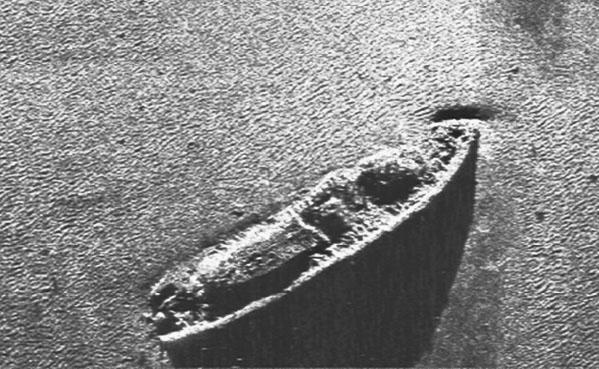ship: (143, 118, 481, 346)
